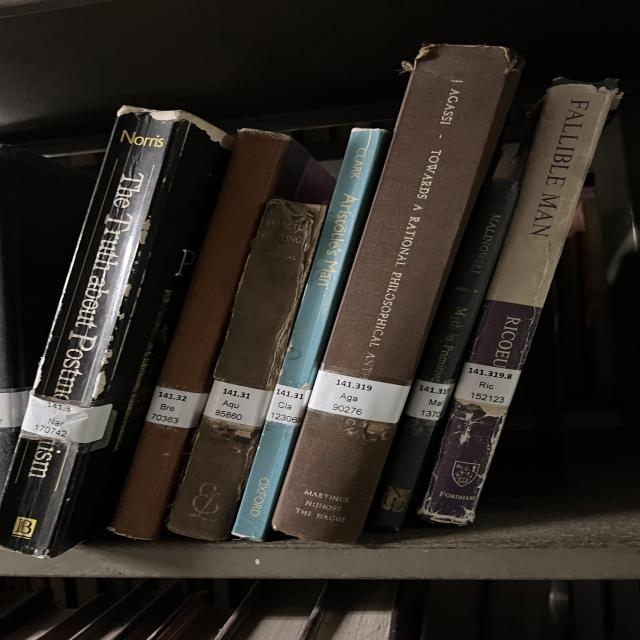Book: (273, 45, 522, 542), (2, 109, 227, 556), (420, 80, 617, 525), (232, 129, 390, 541), (368, 179, 518, 530), (167, 199, 313, 540), (158, 130, 333, 398), (110, 421, 193, 540)
Label: (308, 370, 410, 424), (22, 395, 112, 442), (203, 380, 273, 428), (455, 362, 522, 406), (145, 386, 208, 429), (405, 379, 455, 421), (265, 384, 312, 426)
